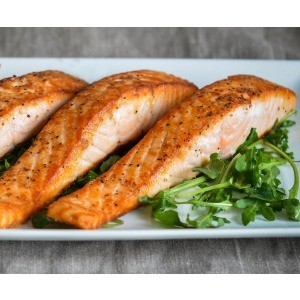salmon_brain food: (11, 76, 231, 203)
